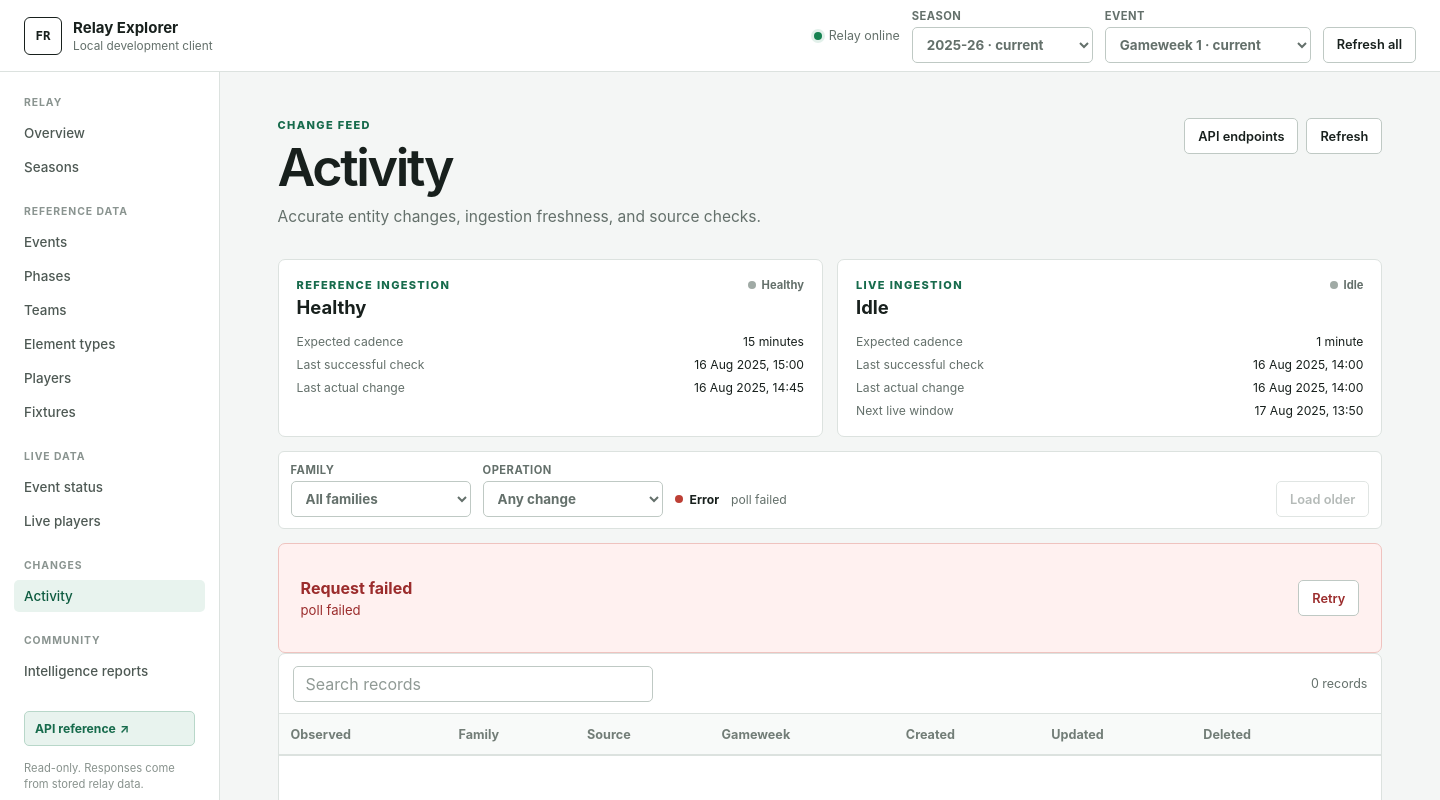
Scenario: relay explorer application › shows an activity polling error and retries from the cursor
Expected: the text "poll failed" next to "Error" is shown, top-left (731, 492), bottom-right (787, 507)
Click the button "Retry".
click(1329, 598)  # box top-left (1298, 580), bottom-right (1359, 616)
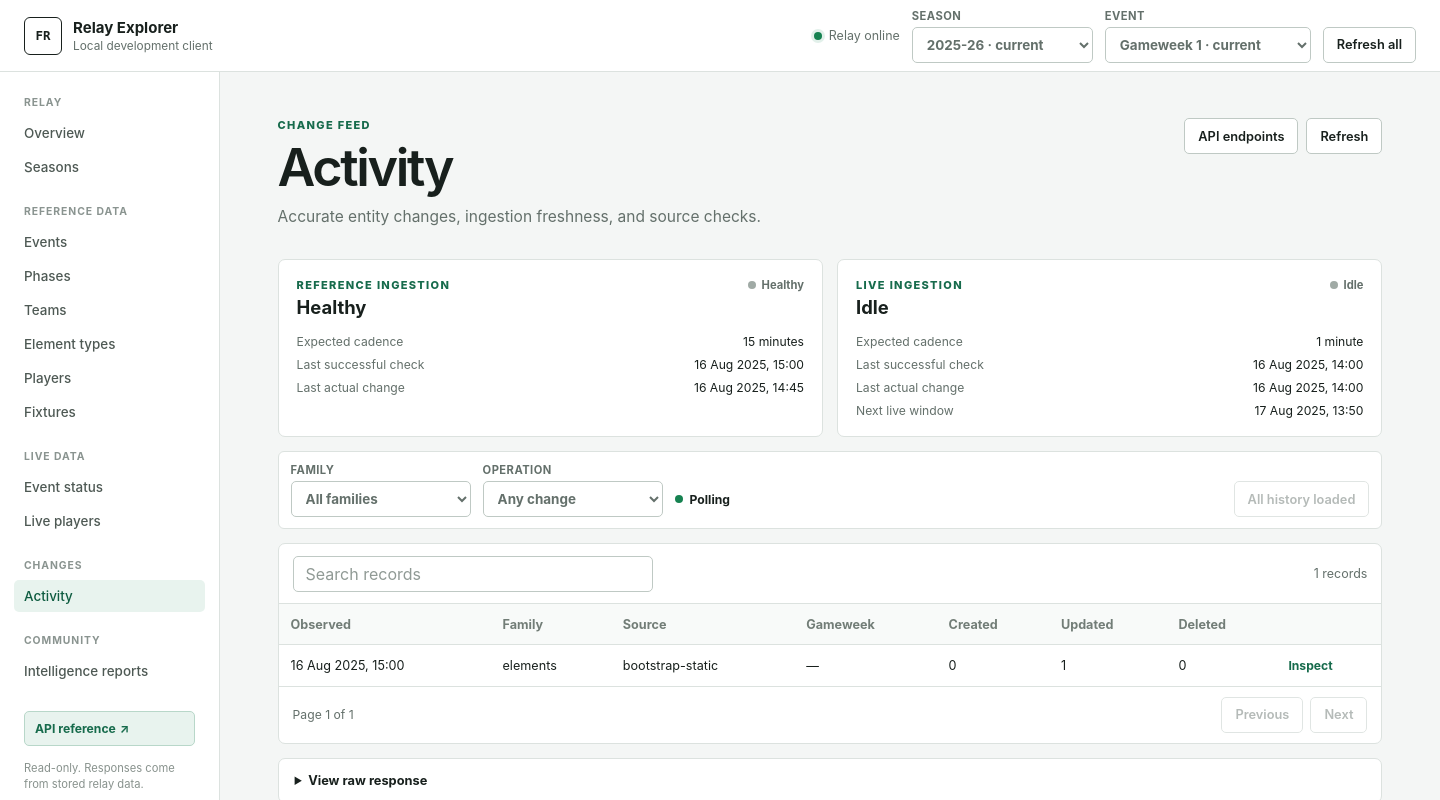
Expected: the text "elements" is shown, top-left (490, 644), bottom-right (611, 686)
